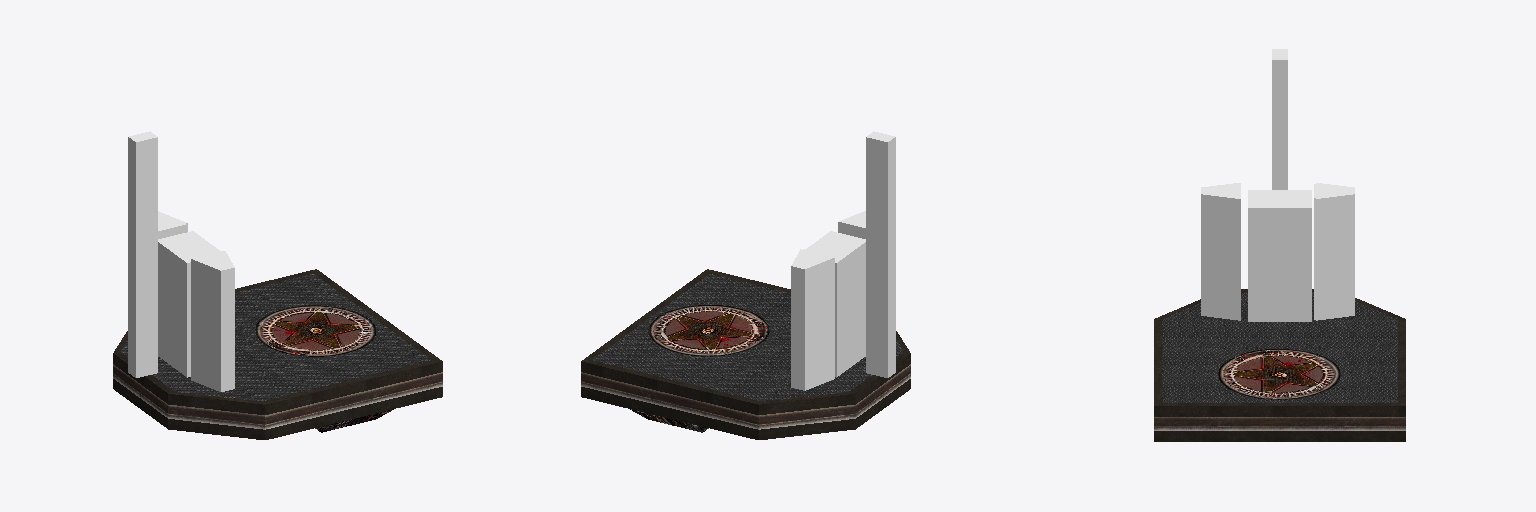
3 views of the same model, side by side, from view 1: azimuth 30°, elevation 25°; view 2: azimuth 150°, elevation 25°; view 3: azimuth 270°, elevation 25° (orthographic).
Parts seen in each view (by area): view 1: entity0_brush2, entity0_brush16, entity0_brush13, entity1_brush0, entity0_brush0, entity0_brush4, entity0_brush3, entity0_brush8, entity0_brush26, entity0_brush21, entity0_brush5, entity0_brush28 (+7 smaller); view 2: entity0_brush2, entity0_brush16, entity0_brush12, entity1_brush0, entity0_brush0, entity0_brush3, entity0_brush4, entity0_brush7, entity0_brush25, entity0_brush22, entity0_brush5, entity0_brush29 (+7 smaller); view 3: entity1_brush0, entity0_brush2, entity0_brush0, entity0_brush12, entity0_brush13, entity0_brush6, entity0_brush24, entity0_brush3, entity0_brush4, entity0_brush23, entity0_brush16, entity0_brush5 (+2 smaller).
Boxes of the visible parts, box(x1,y1,x2,y2) form: entity0_brush2: box(235, 295, 400, 366); entity0_brush16: box(128, 131, 157, 377); entity0_brush13: box(191, 251, 234, 391); entity1_brush0: box(158, 231, 220, 377); entity0_brush0: box(235, 326, 318, 401); entity0_brush4: box(292, 340, 430, 387); entity0_brush3: box(235, 274, 340, 319); entity0_brush8: box(262, 360, 435, 414); entity0_brush26: box(265, 374, 435, 429); entity0_brush21: box(265, 388, 435, 439); entity0_brush5: box(120, 340, 260, 401); entity0_brush28: box(168, 405, 264, 429); entity0_brush2: box(623, 295, 790, 366); entity0_brush16: box(866, 131, 895, 377); entity0_brush12: box(791, 249, 834, 390); entity1_brush0: box(806, 231, 865, 377); entity0_brush0: box(705, 325, 790, 401); entity0_brush3: box(593, 340, 731, 387); entity0_brush4: box(683, 274, 790, 319); entity0_brush7: box(588, 360, 761, 414); entity0_brush25: box(588, 374, 758, 429); entity0_brush22: box(588, 388, 758, 439); entity0_brush5: box(763, 340, 903, 401); entity0_brush29: box(759, 405, 855, 429); entity1_brush0: box(1248, 190, 1311, 321); entity0_brush2: box(1217, 347, 1342, 400); entity0_brush0: box(1162, 319, 1397, 346); entity0_brush12: box(1316, 183, 1354, 320); entity0_brush13: box(1201, 183, 1240, 320); entity0_brush6: box(1154, 403, 1405, 416); entity0_brush24: box(1154, 417, 1405, 430); entity0_brush3: box(1343, 347, 1397, 402); entity0_brush4: box(1162, 347, 1216, 402); entity0_brush23: box(1154, 431, 1405, 441); entity0_brush16: box(1272, 49, 1287, 189); entity0_brush5: box(1163, 292, 1396, 318).
Bounding box in the file's own units: 290 × 328 × 256.
Materials: 10 (6 with a texture image).